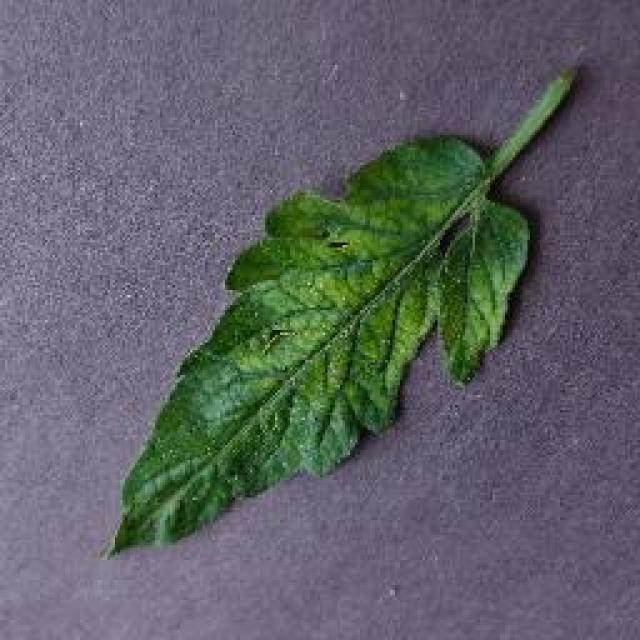Tomato spider mites leaf: (110, 135, 538, 557)
